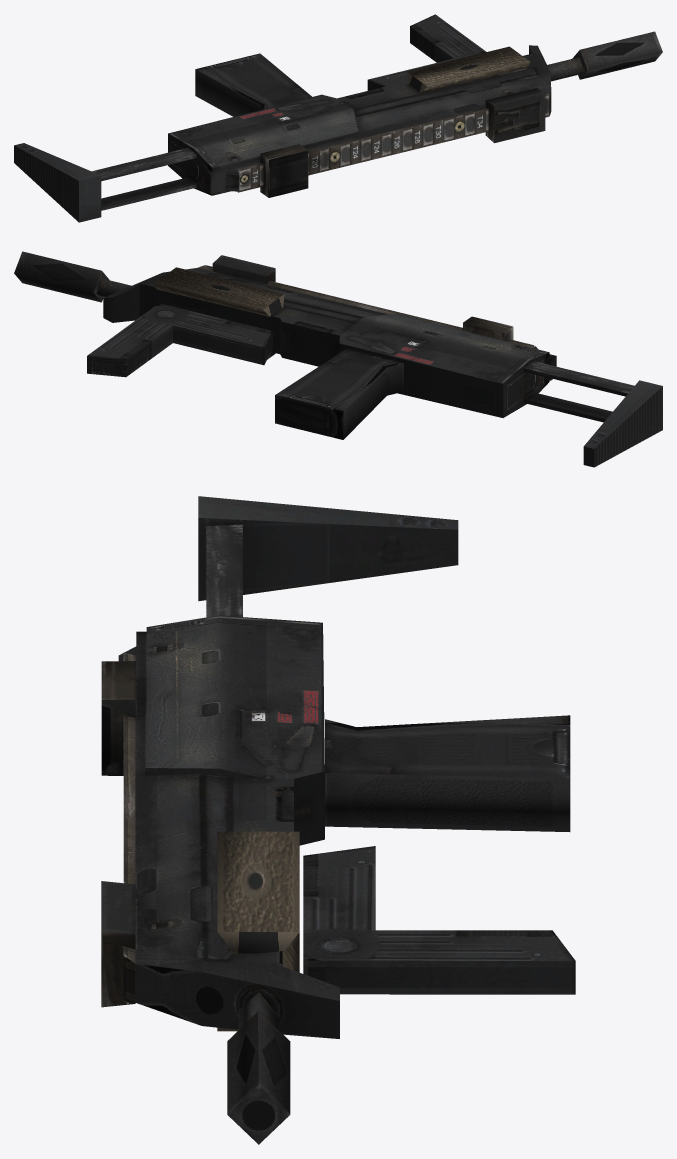
The model's file is t6_wpn_smg_mp7_world_LOD2.obj.
3 views of the same model, one above another, from view 1: azimuth 30°, elevation 25°; view 2: azimuth 150°, elevation 25°; view 3: azimuth 270°, elevation 25° (orthographic). The views are drawn at different scales.
Visible parts, largest first — view 1: mtl_t6_wpn_smg_mp7_camo2, mtl_t6_wpn_smg_mp7_camo3, mtl_t6_wpn_smg_mp7_camo1, mtl_t6_wpn_smg_mp7_camo4; view 2: mtl_t6_wpn_smg_mp7_camo2, mtl_t6_wpn_smg_mp7_camo3, mtl_t6_wpn_smg_mp7_camo1, mtl_t6_wpn_smg_mp7_camo4; view 3: mtl_t6_wpn_smg_mp7_camo2, mtl_t6_wpn_smg_mp7_camo3, mtl_t6_wpn_smg_mp7_camo1, mtl_t6_wpn_smg_mp7_camo4.
Boxes of the visible parts, x1,y1,x2,y2 form: mtl_t6_wpn_smg_mp7_camo2: [14, 45, 550, 222]; mtl_t6_wpn_smg_mp7_camo3: [14, 31, 662, 222]; mtl_t6_wpn_smg_mp7_camo1: [92, 26, 584, 210]; mtl_t6_wpn_smg_mp7_camo4: [367, 14, 486, 90]; mtl_t6_wpn_smg_mp7_camo2: [103, 267, 662, 467]; mtl_t6_wpn_smg_mp7_camo3: [14, 251, 662, 467]; mtl_t6_wpn_smg_mp7_camo1: [96, 255, 634, 422]; mtl_t6_wpn_smg_mp7_camo4: [87, 303, 272, 377]; mtl_t6_wpn_smg_mp7_camo2: [118, 518, 570, 1038]; mtl_t6_wpn_smg_mp7_camo3: [135, 496, 458, 1144]; mtl_t6_wpn_smg_mp7_camo1: [101, 524, 575, 1029]; mtl_t6_wpn_smg_mp7_camo4: [303, 846, 575, 960].
Size of the model in its own units: 58.56 by 4.72 by 20.35.
